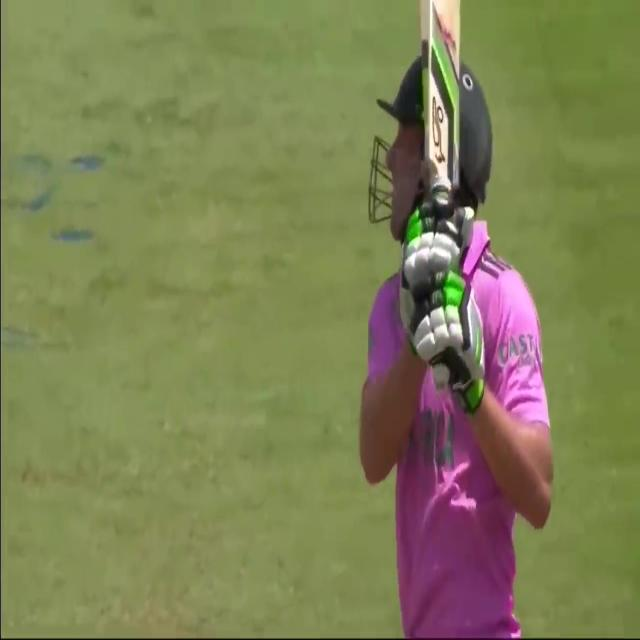Ball: (354, 0, 556, 636)
